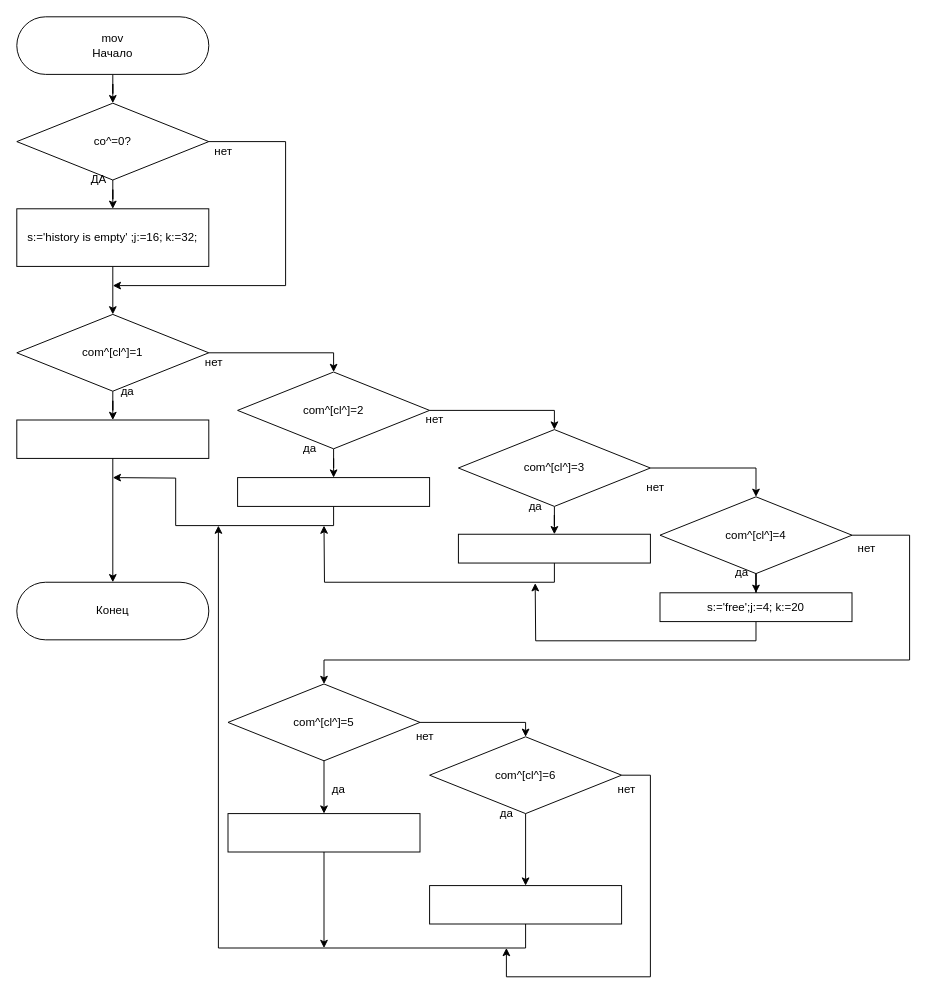
This 934x1001 diagram has some shape labels left out. Each missing label, with the centre of its shape:
"s:='add'; j:=3; k:=19" belongs at [112,438].
"s:='help';j:=4; k:=20" belongs at [333,491].
"s:='ladd';j:=4; k:=20;" belongs at [323,832].
"s:='radd';j:=4; k:=20" belongs at [525,904].
"s:='view';j:=4; k:=20" belongs at [553,548].
